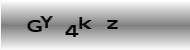4: (64, 23, 79, 38)
G: (26, 19, 43, 33)
Y: (39, 15, 53, 28)
k: (78, 15, 93, 30)
z: (105, 18, 119, 30)
